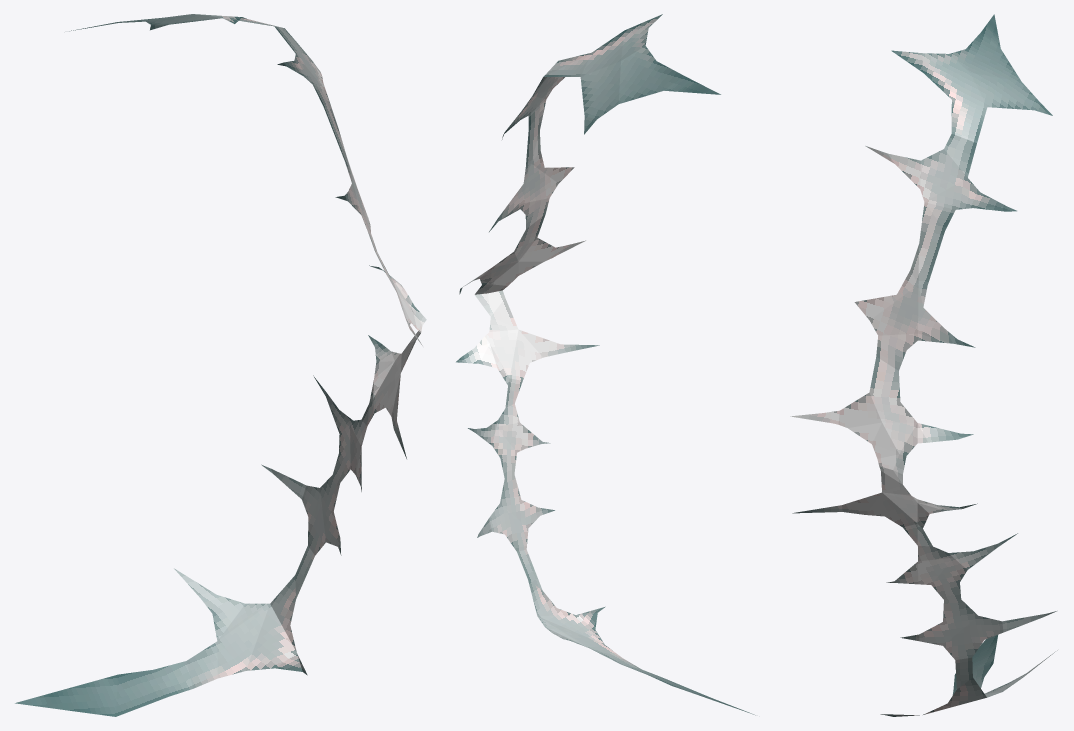
File: options1114.obj
3 renders of one model, left to right at view 1: azimuth 30°, elevation 25°; view 2: azimuth 150°, elevation 25°; view 3: azimuth 270°, elevation 25°, orthographic. The views are drawn at different scales.
Parts seen in each view (by area): view 1: options1114; view 2: options1114; view 3: options1114.
Part boxes in pixels (bbox=[...]): options1114: bbox=[15, 14, 426, 716]; options1114: bbox=[456, 14, 755, 715]; options1114: bbox=[790, 14, 1057, 716].
Size of the model in its own units: 0.1496 by 0.2754 by 0.1016.
1 material, 1 textured.
